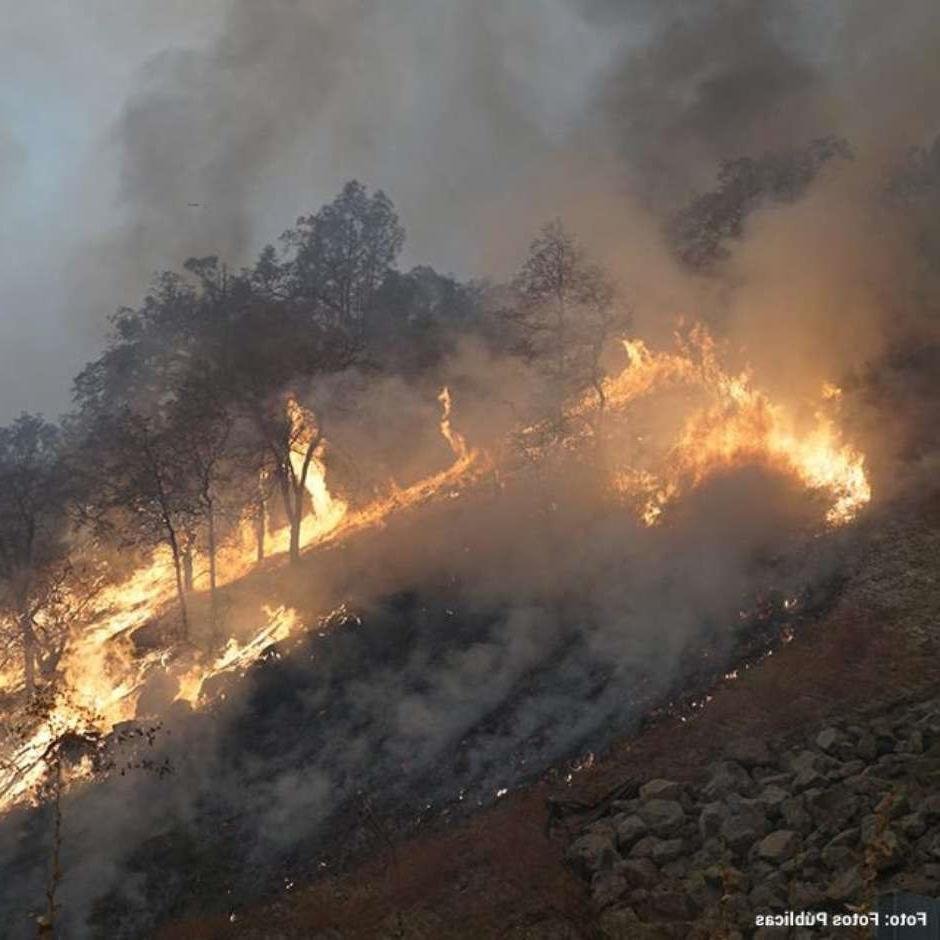Fire: (12, 401, 493, 800), (600, 324, 887, 540)
